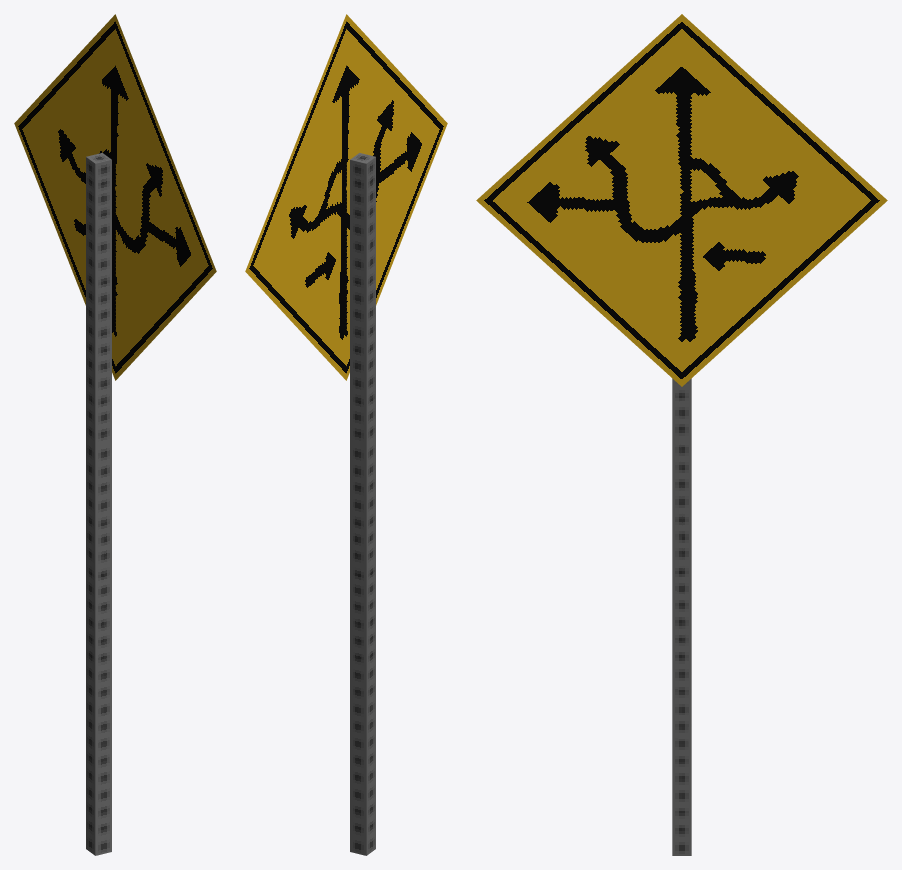
The model's file is sign2.glb.
The picture shows the model from 3 angles, left to right: view 1: azimuth 30°, elevation 25°; view 2: azimuth 150°, elevation 25°; view 3: azimuth 270°, elevation 25°; orthographic projection.
Visible parts, largest first — view 1: Plane, Cube.001; view 2: Plane, Cube.001; view 3: Plane, Cube.001.
Part boxes in pixels (<box>): Plane: <box>14,14,216,380</box>; Cube.001: <box>86,153,111,855</box>; Plane: <box>245,14,447,380</box>; Cube.001: <box>350,153,375,855</box>; Plane: <box>476,14,887,386</box>; Cube.001: <box>672,378,691,855</box>.
Bounding box in the file's own units: 0.075 × 2.41 × 1.06.
1 material, 1 textured.
